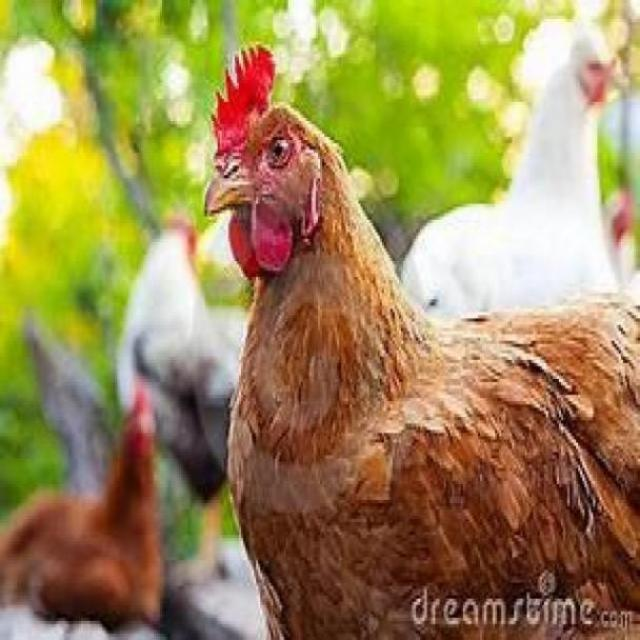Chicken: (202, 41, 640, 639), (401, 26, 619, 319), (115, 217, 248, 580), (0, 382, 160, 618)
